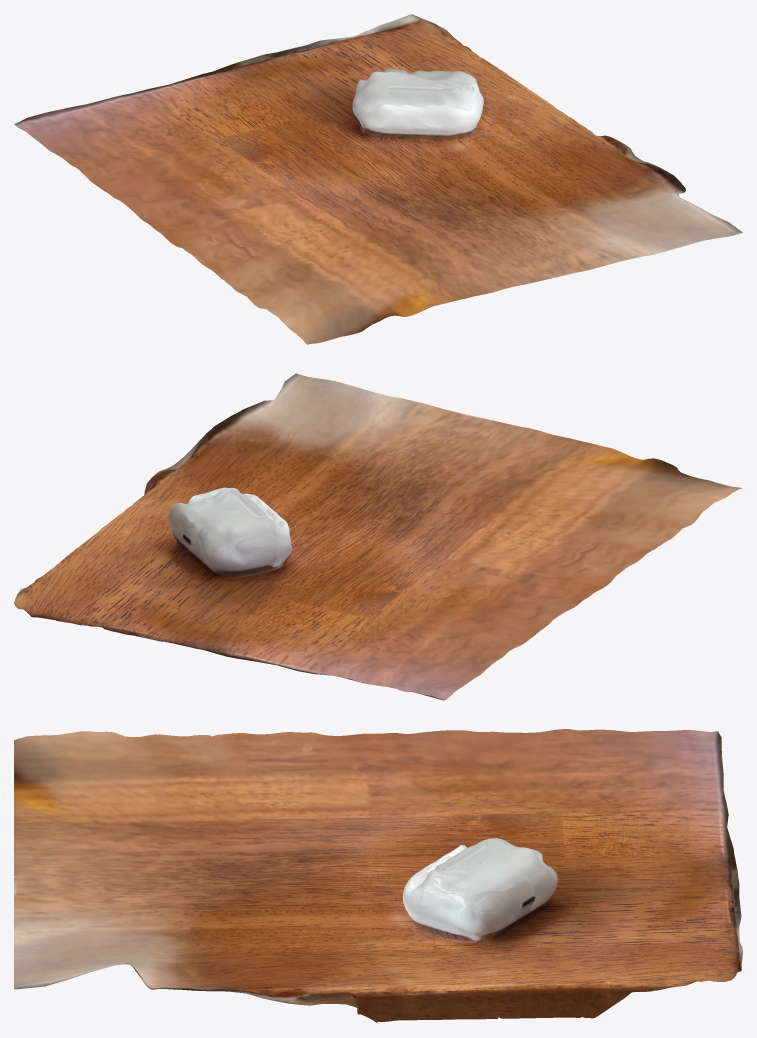
Rendered from 3Ddata.glb.
3 renders of one model, top to bottom at view 1: azimuth 30°, elevation 25°; view 2: azimuth 150°, elevation 25°; view 3: azimuth 270°, elevation 25°, orthographic. The views are drawn at different scales.
Visible parts, largest first — view 1: ff52d41b-e47b-4309-9741-a8f7c81b079d; view 2: ff52d41b-e47b-4309-9741-a8f7c81b079d; view 3: ff52d41b-e47b-4309-9741-a8f7c81b079d.
Part boxes in pixels (x1=…): ff52d41b-e47b-4309-9741-a8f7c81b079d: x1=14, y1=14, x2=742, y2=344; ff52d41b-e47b-4309-9741-a8f7c81b079d: x1=14, y1=373, x2=741, y2=700; ff52d41b-e47b-4309-9741-a8f7c81b079d: x1=14, y1=729, x2=742, y2=1023.
Size of the model in its own units: 1.5 by 0.2271 by 1.76.
1 material, 1 textured.
